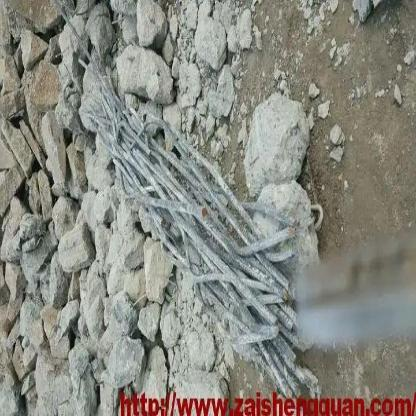rebar: (57, 0, 321, 405)
